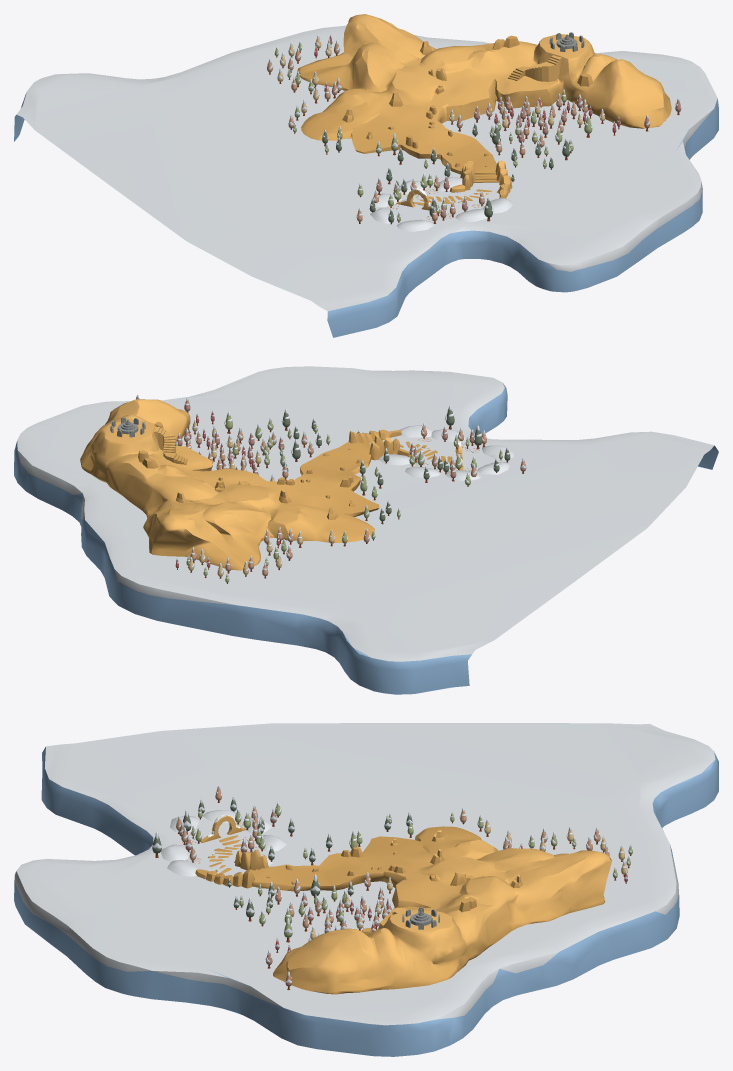
The model's file is Individual_PudgyStone_02.fbx.
3 renders of one model, top to bottom at view 1: azimuth 30°, elevation 25°; view 2: azimuth 150°, elevation 25°; view 3: azimuth 270°, elevation 25°, orthographic. The views are drawn at different scales.
Parts seen in each view (by area): view 1: pasted__pasted__Berg, pasted__Environment_PudgyStone, pCube16; view 2: pasted__pasted__Berg, pasted__Environment_PudgyStone, pCube16; view 3: pasted__pasted__Berg, pasted__Environment_PudgyStone.
Part boxes in pixels (x1,y1,x2,y2): pasted__pasted__Berg: [14, 25, 718, 337]; pasted__Environment_PudgyStone: [297, 14, 671, 212]; pCube16: [508, 55, 561, 81]; pasted__pasted__Berg: [14, 366, 718, 694]; pasted__Environment_PudgyStone: [80, 399, 463, 570]; pCube16: [154, 426, 187, 464]; pasted__pasted__Berg: [14, 723, 718, 1056]; pasted__Environment_PudgyStone: [195, 816, 611, 994].
Bounding box in the file's own units: 10936 × 1429 × 10799.
